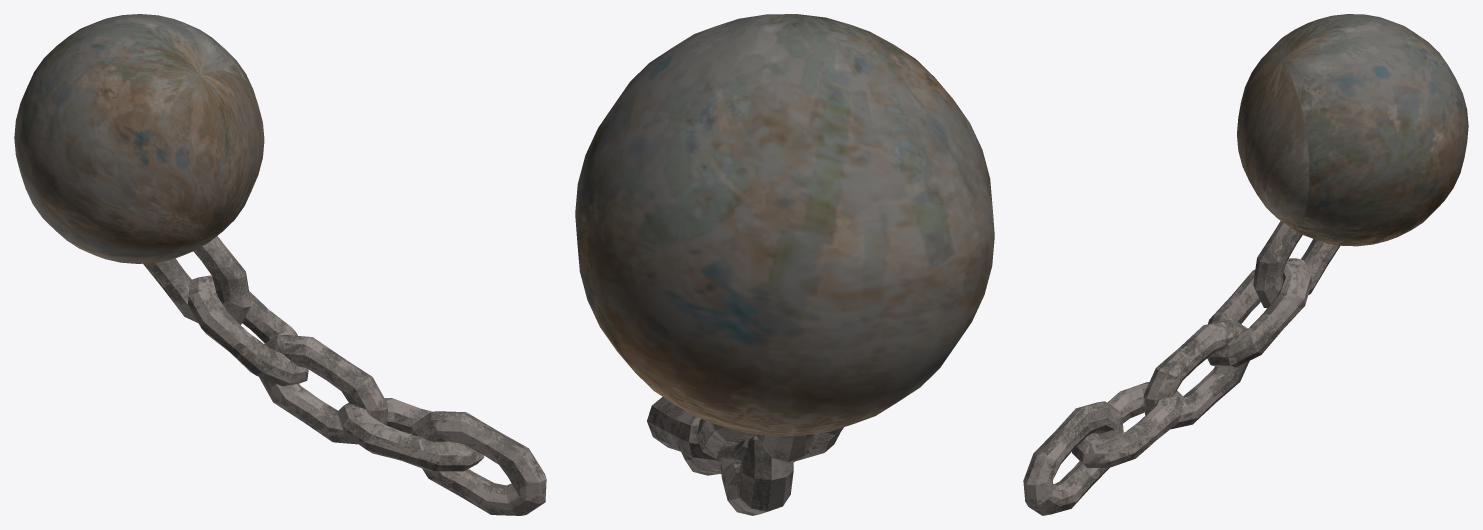
File: planeta3.obj
The picture shows the model from 3 angles, left to right: view 1: azimuth 30°, elevation 25°; view 2: azimuth 150°, elevation 25°; view 3: azimuth 270°, elevation 25°; orthographic projection. The views are drawn at different scales.
Visible parts, largest first — view 1: pTorus11; view 2: pTorus11; view 3: pTorus11.
Boxes of the visible parts, box(x1,y1,x2,y2) form: pTorus11: box(14, 14, 546, 515); pTorus11: box(575, 14, 994, 515); pTorus11: box(1023, 14, 1468, 515).
Size of the model in its own units: 4.75 by 5.61 by 5.75.
Materials: 1 (1 with a texture image).
